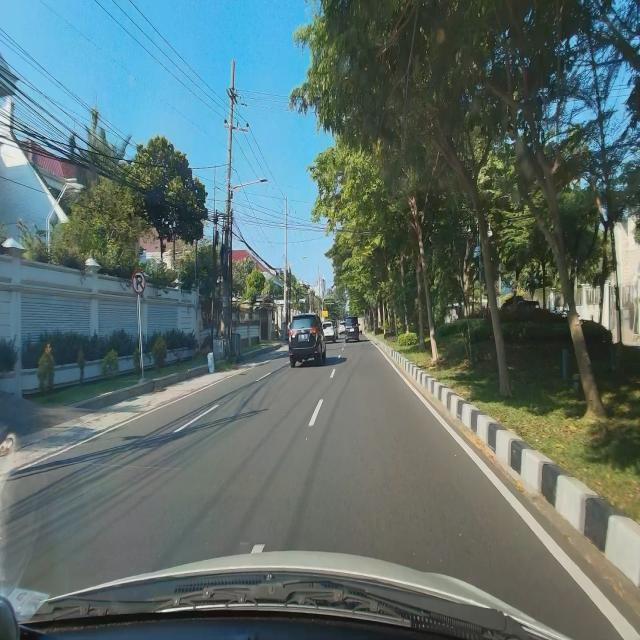car: (287, 312, 328, 368)
license-plate: (298, 334, 308, 340)
